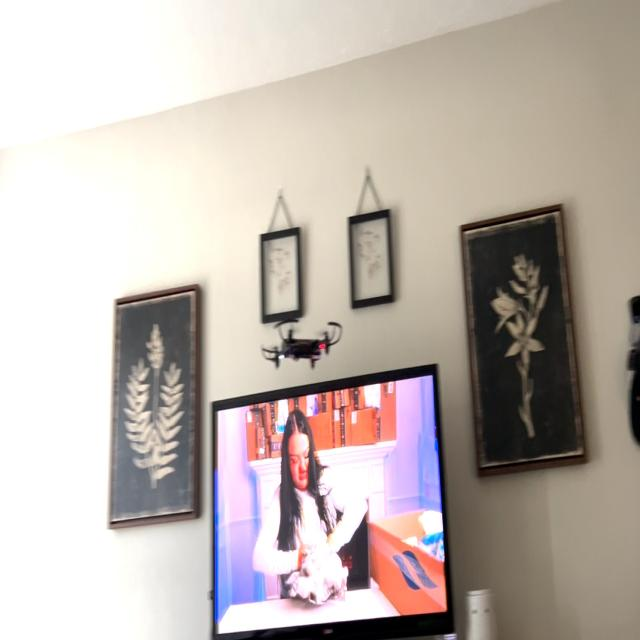drone: (248, 308, 349, 381)
